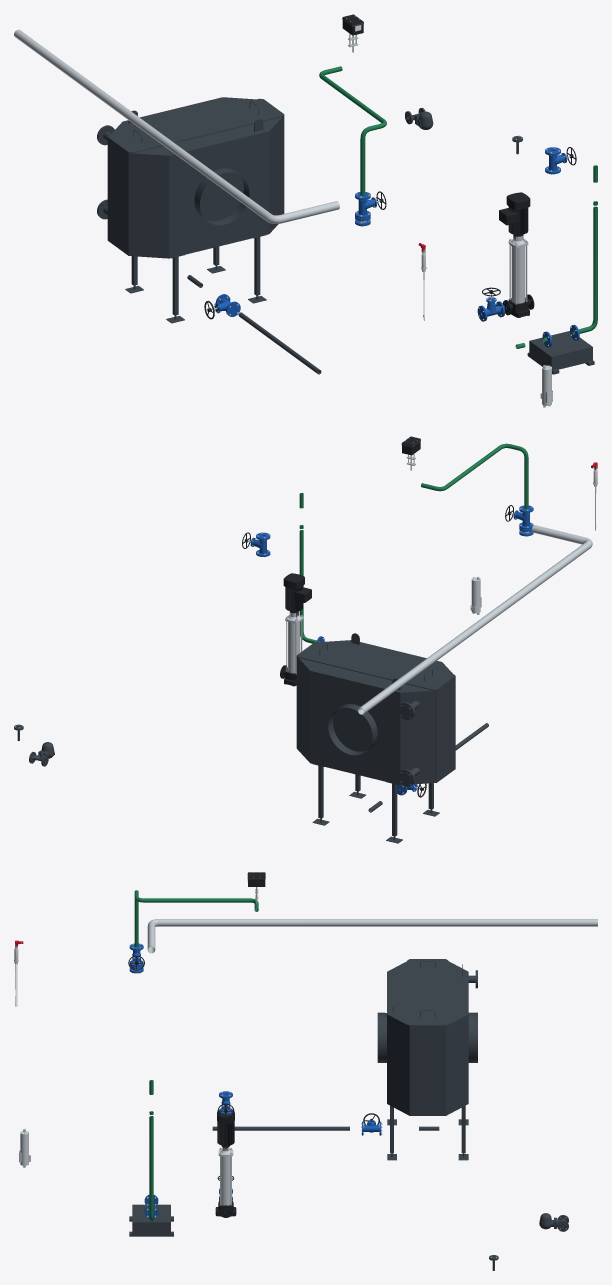
The model's file is s4000-7-DbLIykGK.glb.
The picture shows the model from 3 angles, top to bottom: view 1: azimuth 30°, elevation 25°; view 2: azimuth 150°, elevation 25°; view 3: azimuth 270°, elevation 25°; orthographic projection. The views are drawn at different scales.
Parts seen in each view (by area): view 1: economizer CAD solid 0, economizer CAD solid 3, economizer CAD solid 1, safety_vent_1 / steel, pump_branch_1 / dark, direct_inlet / green, pump_2 CAD solid 15, pump_branch_1 / green, pump_2 CAD solid 2, bottom_piping / dark, drain_isolation_1 / drain_isolation_1_0.npz; view 2: economizer CAD solid 0, economizer CAD solid 3, economizer CAD solid 2, safety_vent_1 / steel, direct_inlet / green, pump_2 CAD solid 15, pump_2 CAD solid 2; view 3: economizer CAD solid 3, safety_vent_1 / steel, economizer CAD solid 0, pump_branch_1 / dark, direct_inlet / green, pump_branch_1 / green, bottom_piping / dark, pump_2 CAD solid 15, pump_2 CAD solid 2.
Part boxes in pixels (left/top/right/bottom): economizer CAD solid 0: left=125, top=131, right=269, bottom=323; economizer CAD solid 3: left=107, top=97, right=284, bottom=255; economizer CAD solid 1: left=128, top=153, right=169, bottom=258; safety_vent_1 / steel: left=14, top=29, right=339, bottom=223; pump_branch_1 / dark: left=527, top=331, right=594, bottom=374; direct_inlet / green: left=319, top=66, right=386, bottom=195; pump_2 CAD solid 15: left=499, top=192, right=530, bottom=235; pump_branch_1 / green: left=515, top=165, right=597, bottom=348; pump_2 CAD solid 2: left=511, top=246, right=525, bottom=303; bottom_piping / dark: left=238, top=312, right=321, bottom=374; drain_isolation_1 / drain_isolation_1_0.npz: left=204, top=294, right=240, bottom=319; economizer CAD solid 0: left=310, top=671, right=439, bottom=843; economizer CAD solid 3: left=296, top=633, right=455, bottom=782; economizer CAD solid 2: left=398, top=690, right=436, bottom=786; safety_vent_1 / steel: left=358, top=525, right=592, bottom=714; direct_inlet / green: left=421, top=443, right=528, bottom=509; pump_2 CAD solid 15: left=283, top=573, right=311, bottom=612; pump_2 CAD solid 2: left=288, top=622, right=300, bottom=673; economizer CAD solid 3: left=387, top=959, right=468, bottom=1115; safety_vent_1 / steel: left=147, top=919, right=597, bottom=953; economizer CAD solid 0: left=377, top=972, right=477, bottom=1160; pump_branch_1 / dark: left=129, top=1204, right=173, bottom=1236; direct_inlet / green: left=134, top=890, right=258, bottom=946; pump_branch_1 / green: left=149, top=1080, right=153, bottom=1221; bottom_piping / dark: left=212, top=1126, right=349, bottom=1130; pump_2 CAD solid 15: left=217, top=1110, right=234, bottom=1146; pump_2 CAD solid 2: left=221, top=1156, right=231, bottom=1205.
Bounding box in the file's own units: 4.56 × 3.24 × 5.89.
